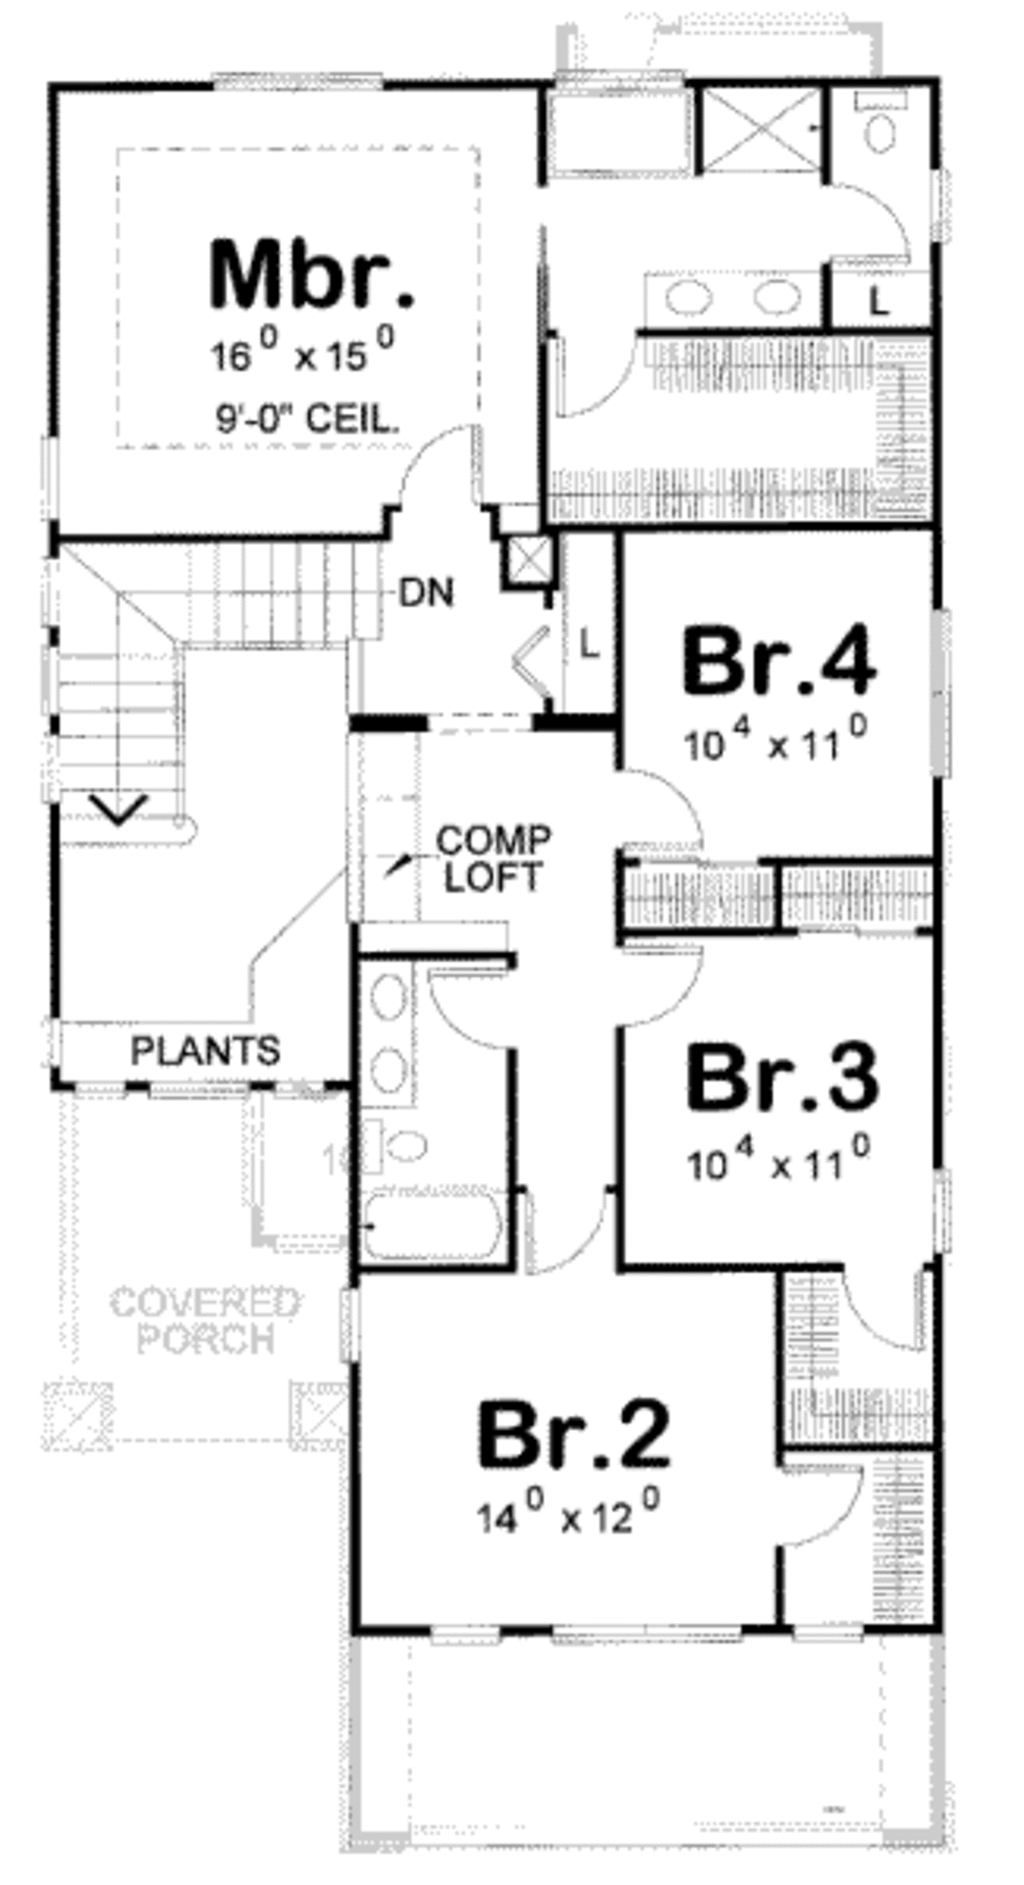door: (523, 1185, 647, 1297), (382, 414, 497, 532), (414, 953, 515, 1060), (826, 1247, 923, 1355), (612, 757, 707, 854), (608, 936, 702, 1029), (767, 1459, 861, 1550), (817, 188, 914, 274), (541, 329, 620, 411)
large_sink: (829, 82, 934, 173), (335, 1115, 449, 1181)
small_sink: (641, 261, 832, 335), (347, 944, 417, 1099)
stairs: (44, 538, 409, 847)
tub: (349, 1181, 504, 1260)
window: (429, 1614, 902, 1656), (44, 1060, 344, 1111), (199, 50, 397, 111), (905, 609, 958, 782), (32, 432, 67, 526)
